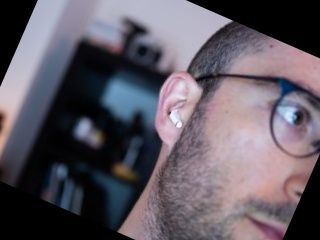earphone: (141, 65, 208, 149)
